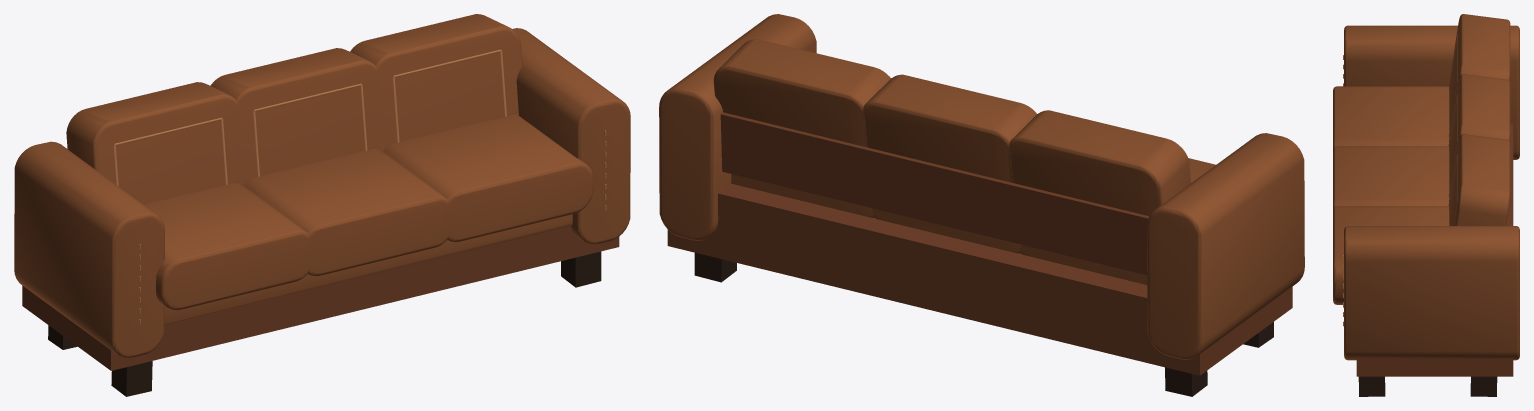
File: cognac-leather-sofa-seatDepth-max.glb
3 views of the same model, side by side, from view 1: azimuth 30°, elevation 25°; view 2: azimuth 150°, elevation 25°; view 3: azimuth 270°, elevation 25° (orthographic). The views are drawn at different scales.
Visible parts, largest first — view 1: sofa-part-28, sofa-part-4, seat-cushion-1-part-0, seat-cushion-2-part-0, back-cushion-3-part-0, back-cushion-2-part-0, back-cushion-1-part-0, seat-cushion-3-part-0, sofa-part-7, sofa-part-5, sofa-part-2, sofa-part-0; view 2: sofa-part-4, sofa-part-28, sofa-part-6, back-cushion-3-part-0, back-cushion-1-part-0, back-cushion-2-part-0, sofa-part-7, seat-cushion-3-part-0, seat-cushion-2-part-0, seat-cushion-1-part-0, sofa-part-3, sofa-part-1; view 3: sofa-part-7, sofa-part-28, seat-cushion-2-part-0, seat-cushion-3-part-0, back-cushion-1-part-0, back-cushion-2-part-0, back-cushion-3-part-0, sofa-part-4, seat-cushion-1-part-0, sofa-part-1, sofa-part-0.
Part boxes in pixels (left/top/right/bottom): sofa-part-28: left=14, top=141, right=164, bottom=358; sofa-part-4: left=22, top=226, right=619, bottom=370; seat-cushion-1-part-0: left=383, top=115, right=593, bottom=242; seat-cushion-2-part-0: left=243, top=149, right=451, bottom=276; back-cushion-3-part-0: left=66, top=82, right=244, bottom=204; back-cushion-2-part-0: left=210, top=48, right=383, bottom=184; back-cushion-1-part-0: left=350, top=14, right=522, bottom=149; seat-cushion-3-part-0: left=144, top=183, right=311, bottom=310; sofa-part-7: left=513, top=28, right=630, bottom=244; sofa-part-5: left=164, top=214, right=572, bottom=324; sofa-part-2: left=111, top=361, right=152, bottom=396; sofa-part-0: left=561, top=251, right=601, bottom=287; sofa-part-4: left=667, top=183, right=1292, bottom=375; sofa-part-28: left=1147, top=133, right=1304, bottom=359; sofa-part-6: left=720, top=112, right=1148, bottom=275; back-cushion-3-part-0: left=1008, top=110, right=1190, bottom=215; back-cushion-1-part-0: left=713, top=39, right=890, bottom=147; back-cushion-2-part-0: left=862, top=74, right=1036, bottom=182; sofa-part-7: left=659, top=14, right=816, bottom=240; seat-cushion-3-part-0: left=1018, top=158, right=1215, bottom=284; seat-cushion-2-part-0: left=871, top=208, right=1022, bottom=253; seat-cushion-1-part-0: left=731, top=174, right=874, bottom=217; sofa-part-3: left=1165, top=367, right=1207, bottom=396; sofa-part-1: left=694, top=252, right=736, bottom=282; sofa-part-7: left=1344, top=226, right=1519, bottom=360; sofa-part-28: left=1344, top=25, right=1519, bottom=159; seat-cushion-2-part-0: left=1333, top=146, right=1449, bottom=209; seat-cushion-3-part-0: left=1333, top=86, right=1449, bottom=149; back-cushion-1-part-0: left=1448, top=134, right=1510, bottom=225; back-cushion-2-part-0: left=1448, top=74, right=1510, bottom=204; back-cushion-3-part-0: left=1449, top=14, right=1510, bottom=142; sofa-part-4: left=1356, top=124, right=1513, bottom=376; seat-cushion-1-part-0: left=1333, top=206, right=1449, bottom=304; sofa-part-1: left=1470, top=376, right=1497, bottom=396; sofa-part-0: left=1358, top=376, right=1385, bottom=396.
Bounding box in the file's own units: 2.64 × 1.08 × 0.931.
